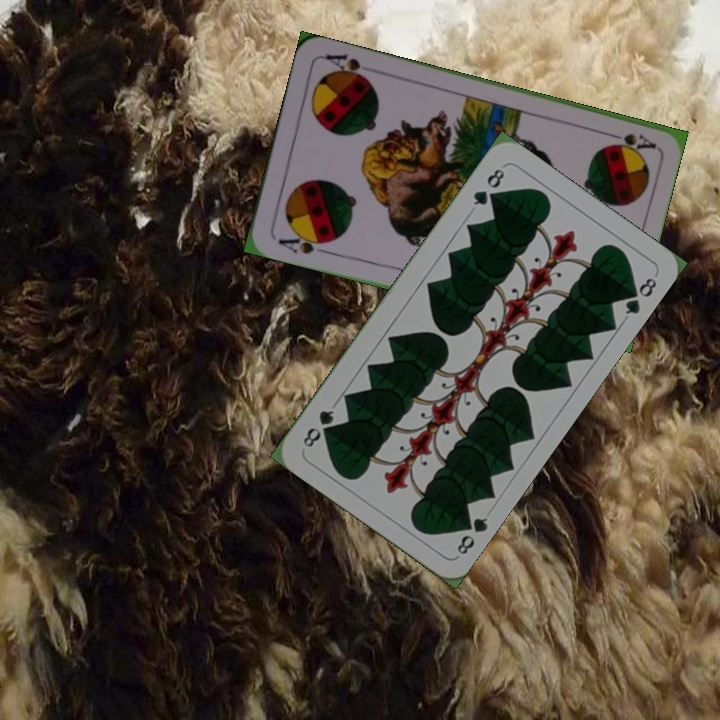G8: (453, 511, 491, 558), (469, 164, 508, 208)
SA: (274, 228, 333, 257), (599, 127, 658, 154)
